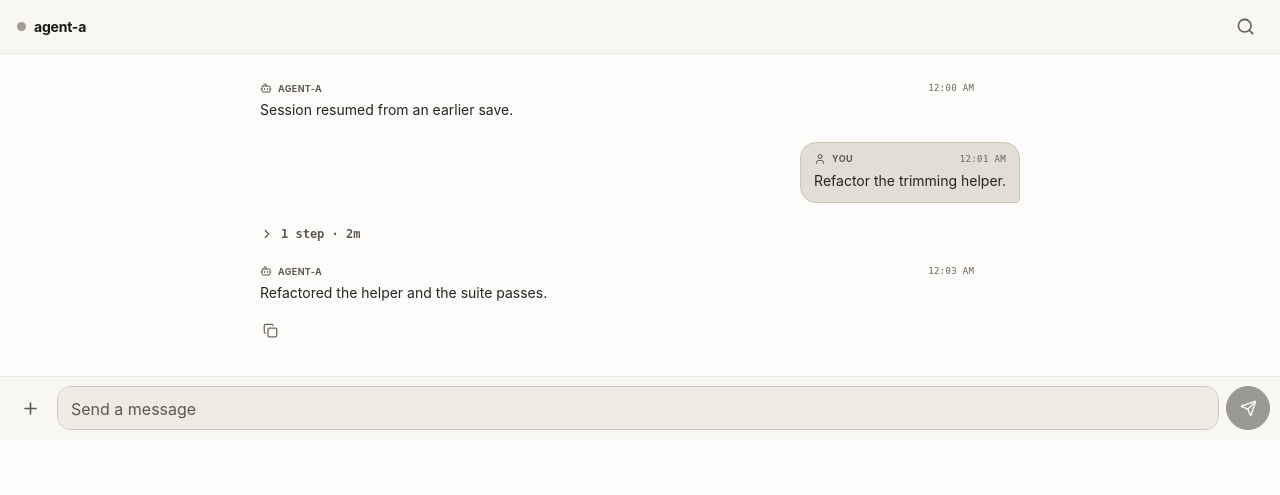
turn grouping in the panel › search mode renders a flat list and clearing the search restores grouping
Expected: the element with class "turn-group" is shown, [260, 142, 1020, 348]
Click the button named "Search transcript" at (1245, 26), box [1224, 6, 1266, 48]
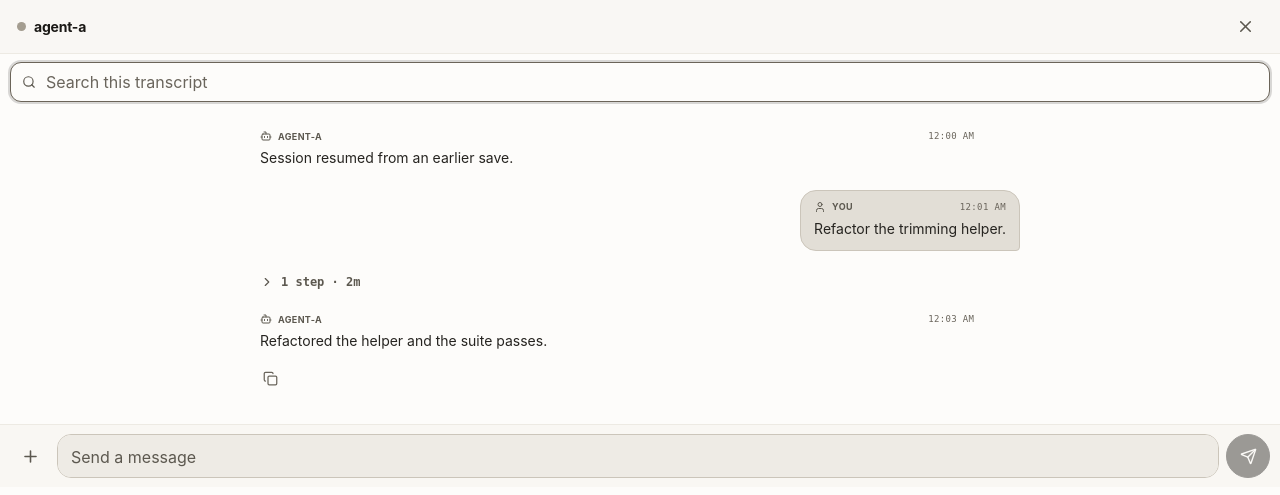
Type "helper" into the field labelled "Search this transcript" at (651, 82), box [44, 63, 1258, 101]
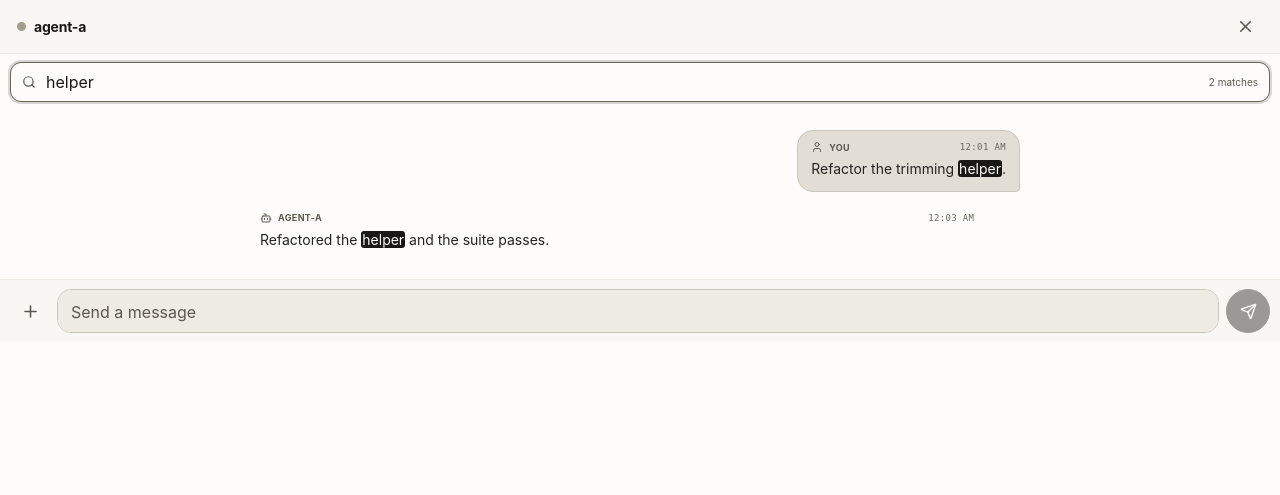
Result: the element with class "turn-group" is gone
Result: the element with class "turn-work" is gone
Result: the text "2 matches" is shown at [1209, 76, 1258, 88]
Click the button named "Close search" at (1245, 26), box [1224, 6, 1266, 48]
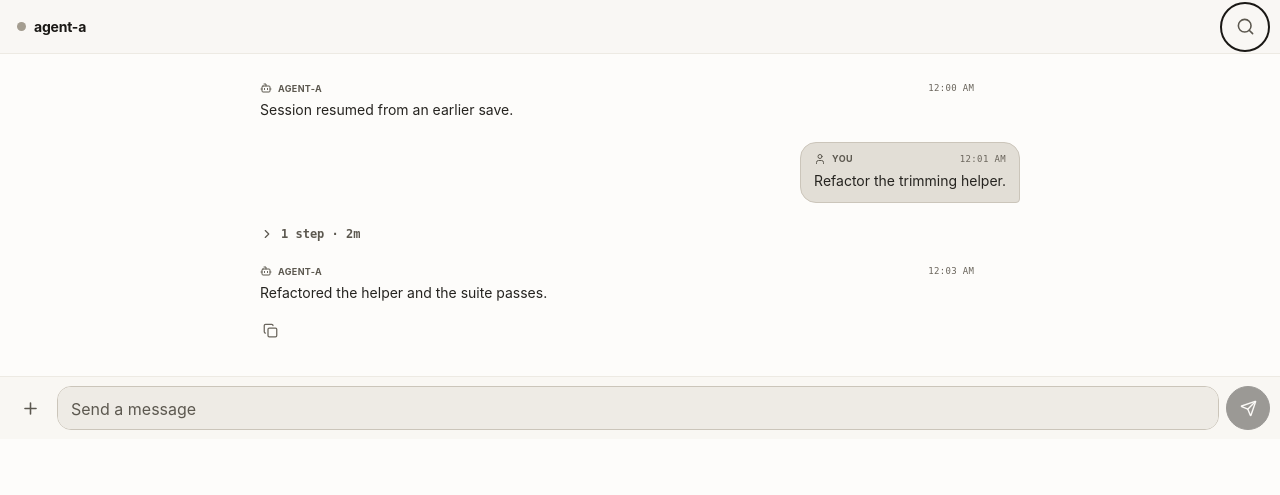
Result: the element with class "turn-group" is shown at [260, 142, 1020, 348]
Result: the element with class "turn-work" is shown at [260, 227, 360, 241]
